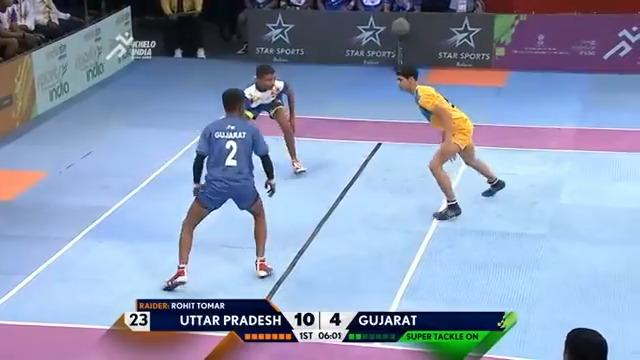Player: (162, 87, 276, 291), (240, 63, 307, 174)
Raider: (393, 63, 505, 220)
referee: (562, 326, 608, 359)
